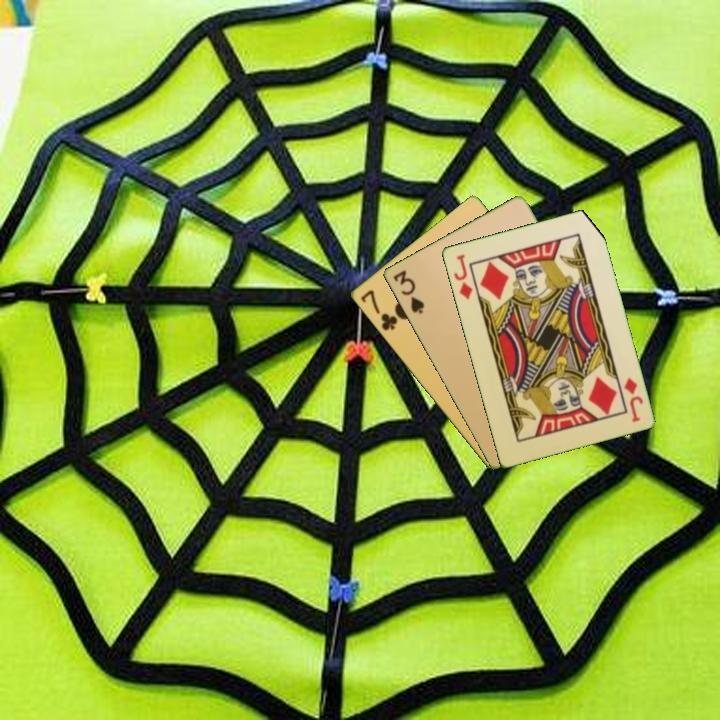3s: (389, 266, 427, 317)
7c: (357, 286, 400, 334)
Jd: (620, 374, 646, 425), (450, 251, 475, 302)
